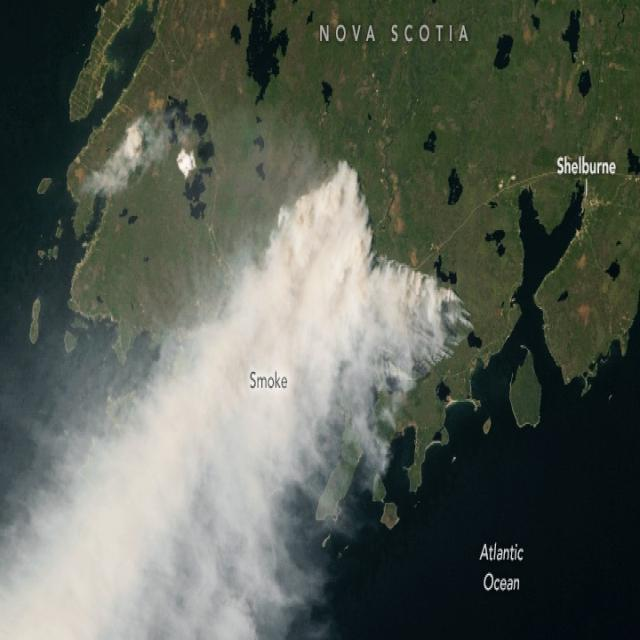methane: (0, 164, 446, 638), (177, 148, 196, 178)
water: (282, 178, 640, 640), (0, 0, 157, 553), (247, 0, 288, 102), (562, 11, 580, 61), (493, 35, 513, 68), (447, 167, 462, 202), (578, 69, 591, 96), (628, 148, 639, 173), (423, 131, 436, 151)
